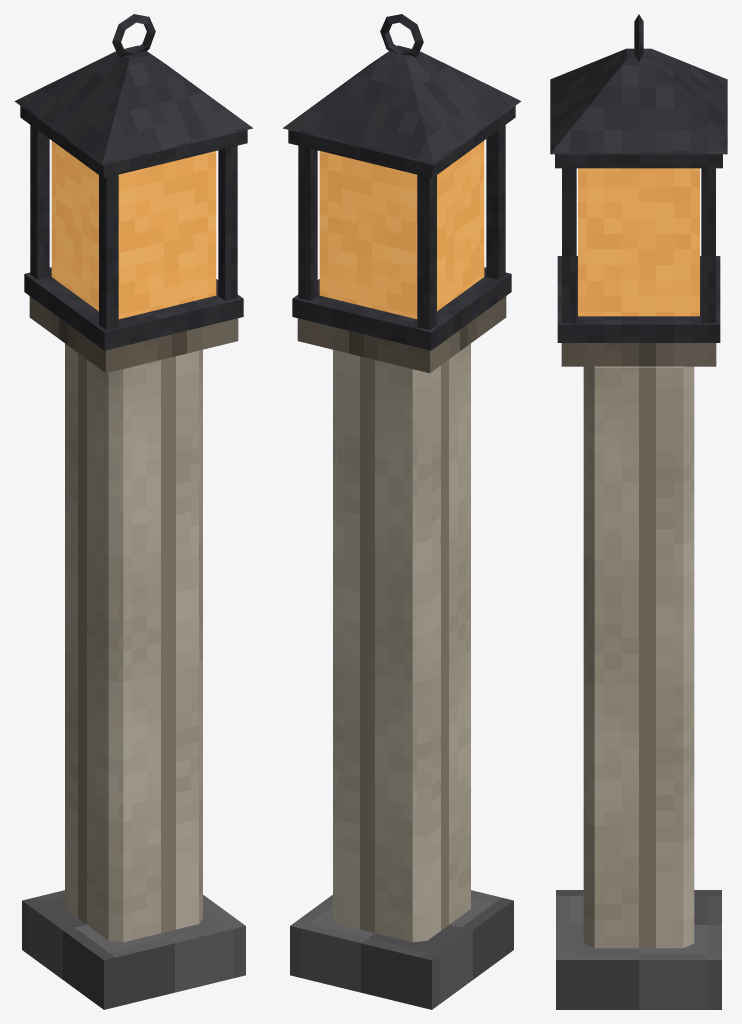
The model's file is lantern_post.glb.
3 renders of one model, left to right at view 1: azimuth 30°, elevation 25°; view 2: azimuth 150°, elevation 25°; view 3: azimuth 270°, elevation 25°, orthographic.
Parts seen in each view (by area): view 1: body; view 2: body; view 3: body.
Part boxes in pixels (x1,y1,x2,y2): body: [14, 14, 252, 1009]; body: [283, 14, 521, 1009]; body: [550, 14, 727, 1009].
Size of the model in its own units: 0.3207 by 1.92 by 0.3207.
Materials: 6 (5 with a texture image).
